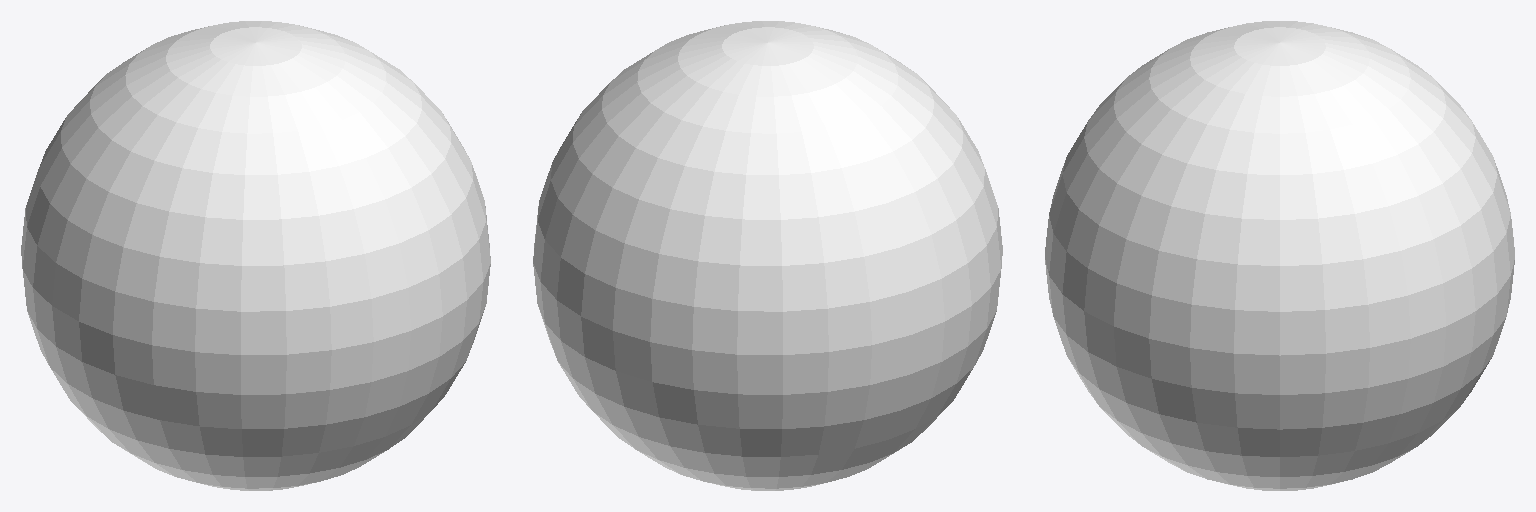
The model's file is globe1.obj.
The picture shows the model from 3 angles: view 1: azimuth 30°, elevation 25°; view 2: azimuth 150°, elevation 25°; view 3: azimuth 270°, elevation 25°; orthographic projection.
Visible parts, largest first — view 1: Sphere01; view 2: Sphere01; view 3: Sphere01.
Boxes of the visible parts, box(x1,y1,x2,y2) form: Sphere01: box(21, 21, 490, 490); Sphere01: box(533, 21, 1002, 490); Sphere01: box(1045, 21, 1514, 490).
Bounding box in the file's own units: 200 × 200 × 200.